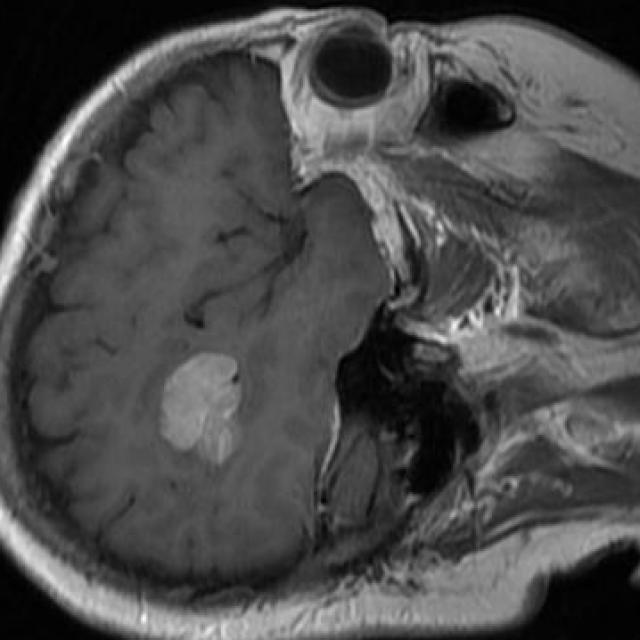meningioma: (160, 353, 239, 465)
